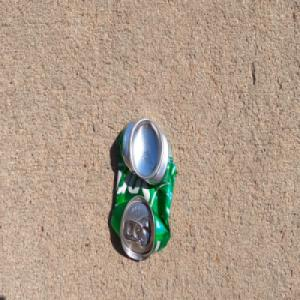SodaCan: (109, 114, 177, 262)
